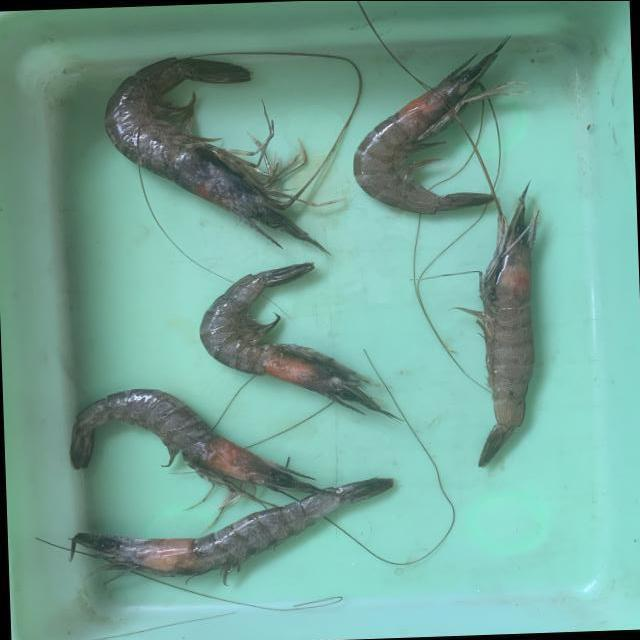shrimp: (104, 56, 326, 252), (71, 478, 393, 578), (199, 262, 393, 417), (353, 35, 521, 213), (69, 389, 322, 500), (458, 186, 538, 467)
